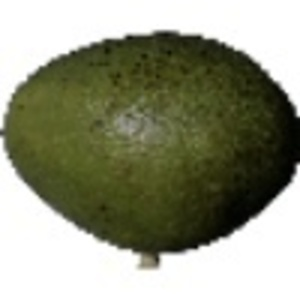abacate: (1, 26, 297, 251)
